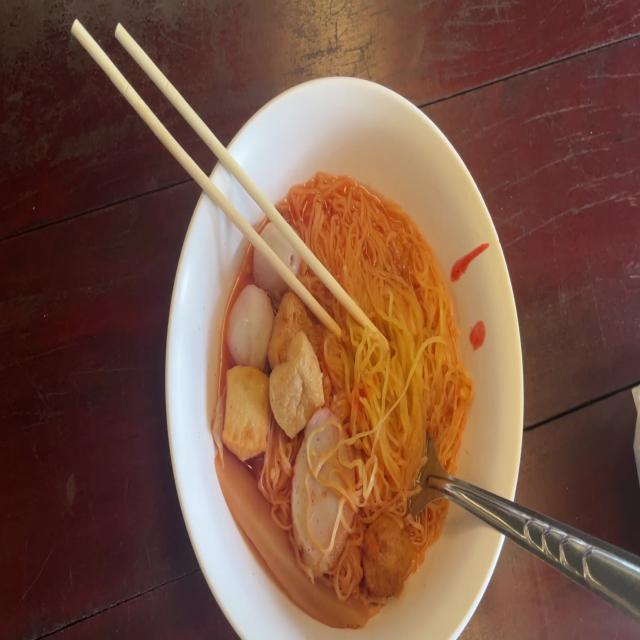crunchy_squid: (213, 441, 378, 632)
egg_noodles: (282, 166, 466, 558)
fish_ball: (222, 281, 274, 374), (253, 214, 301, 294)
fried_fish_balls: (295, 408, 354, 566)
fried_tofu: (274, 333, 324, 430), (269, 291, 314, 379)
noodle: (221, 173, 468, 614)
tofu: (222, 361, 272, 469)
